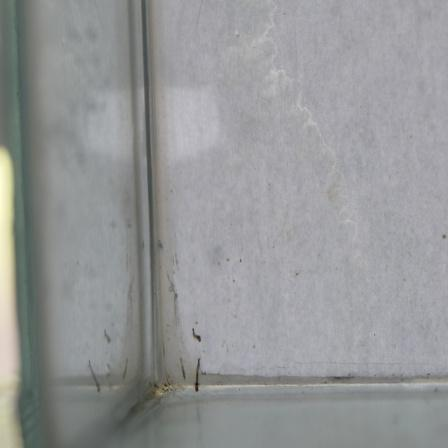Jentik-Nyamuk: (190, 355, 204, 393), (189, 324, 203, 345)
